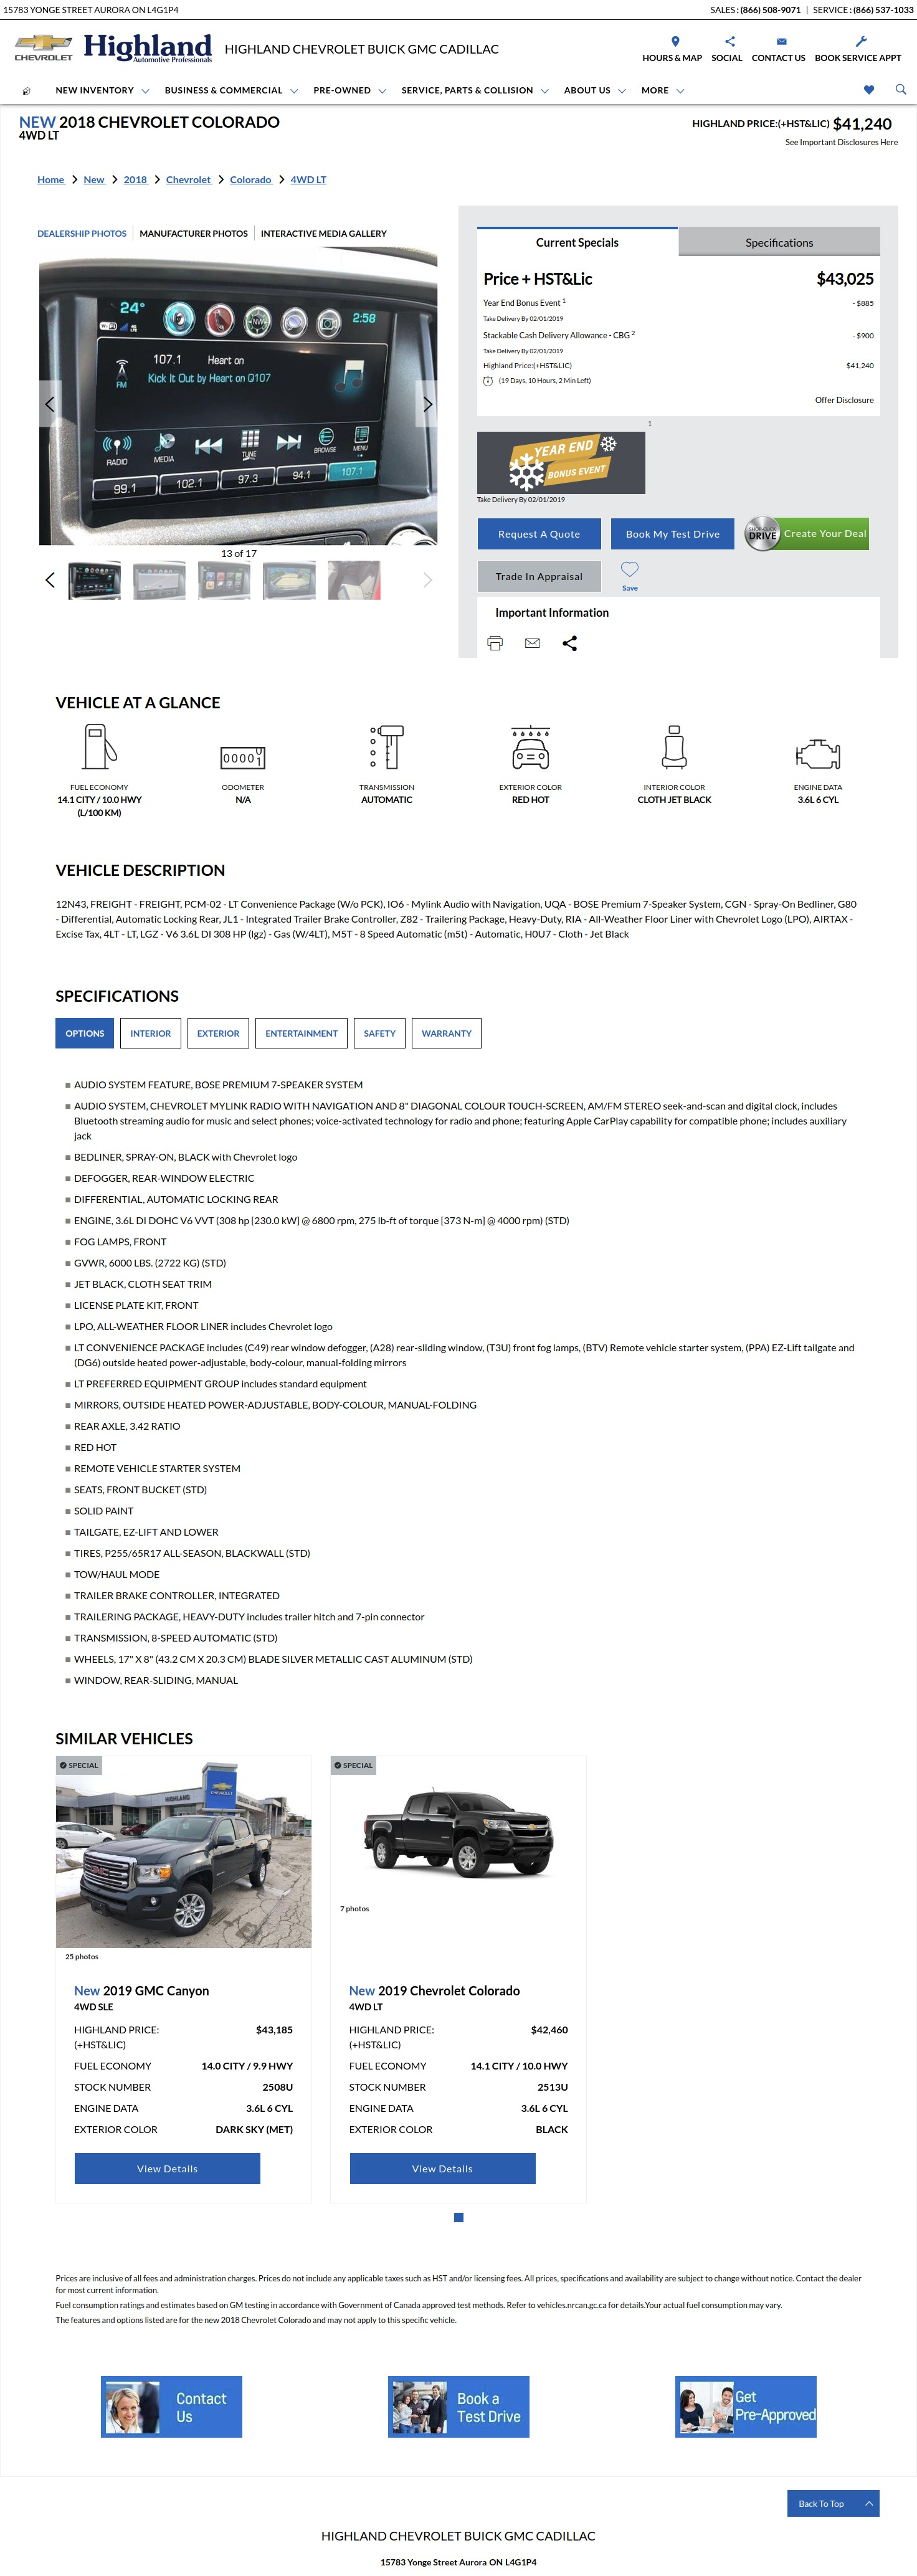car: (424, 398, 432, 412)
